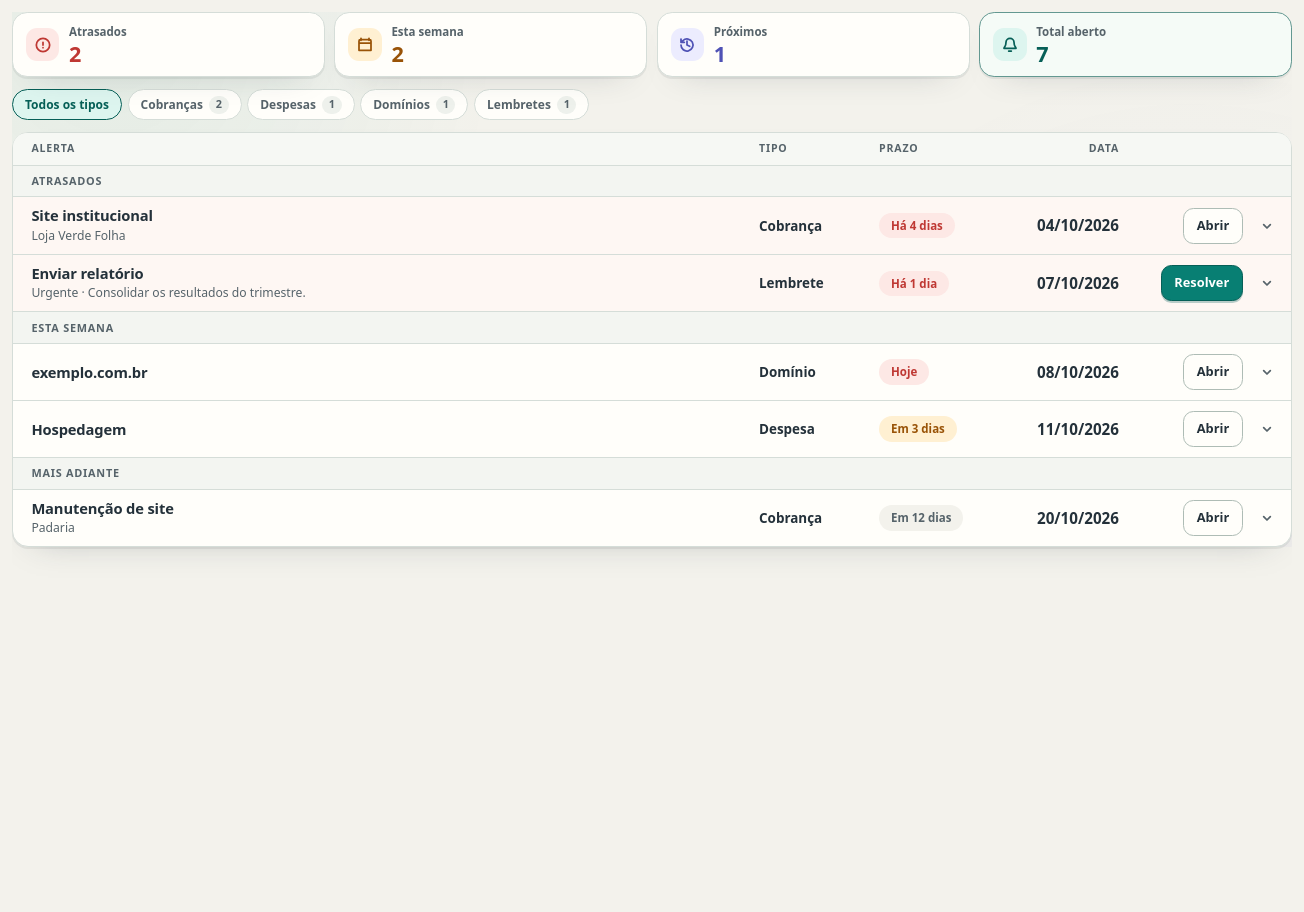
Test: AlertBoard › leva à origem nos alertas derivados e resolve ou adia os lembretes
The image size is (1304, 912).
Expected: the button "Resolver" is shown, x1=1160 y1=265 x2=1243 y2=301
Expected: the text "Urgente · Consolidar os resultados do trimestre." is shown, x1=31 y1=284 x2=306 y2=301
Step 1. Click the button "Enviar relatório" → (87, 273), box x1=31 y1=264 x2=144 y2=283
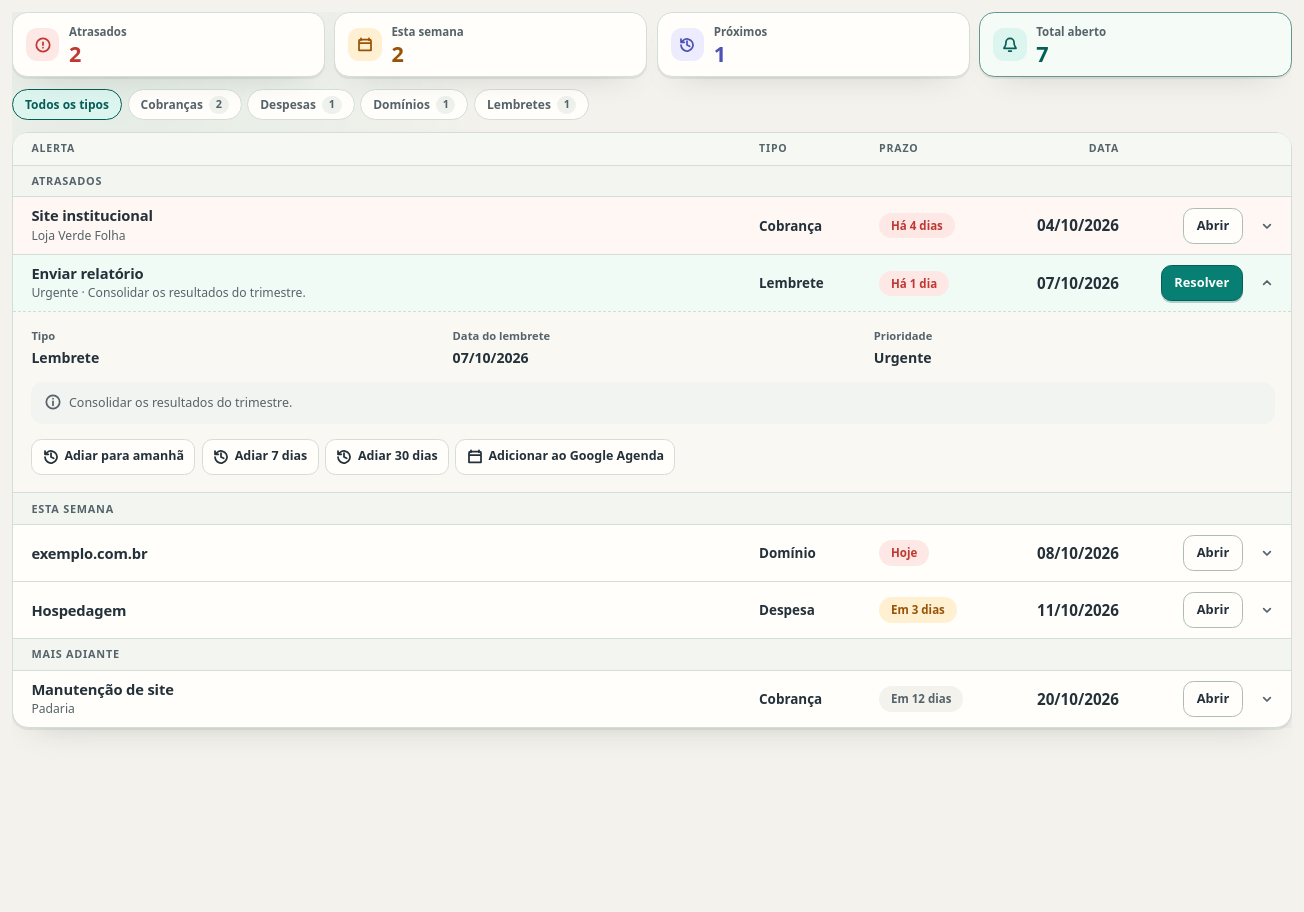
Expected: the form named "id" holds "11111111-1111-4111-8111-111111111111", x1=31 y1=439 x2=195 y2=475
